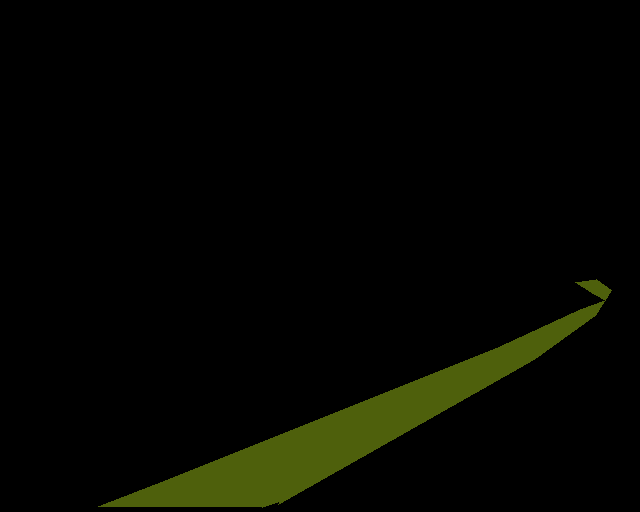Train: (98, 279, 612, 507)
